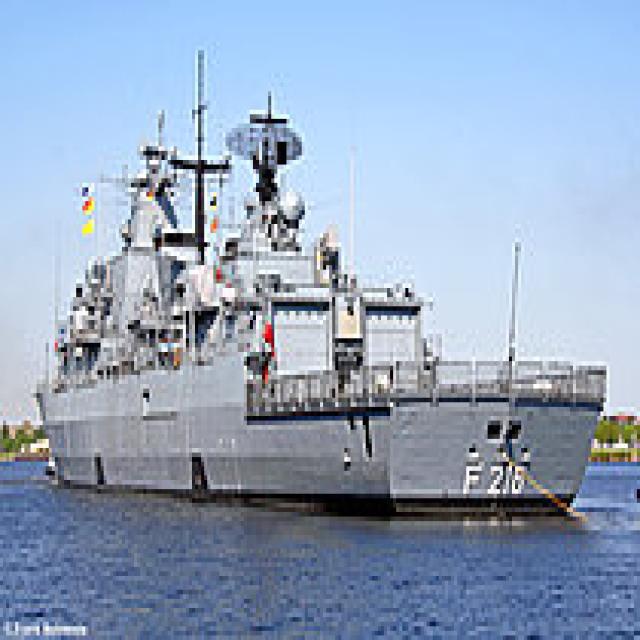Warship: (28, 36, 606, 516)
